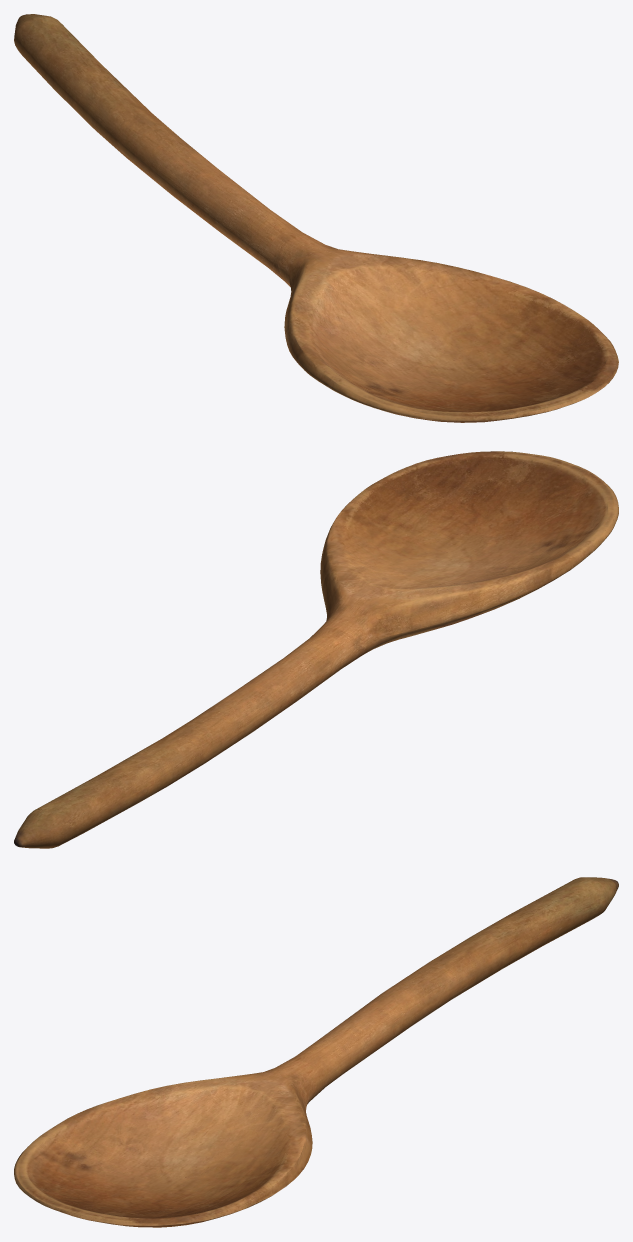
File: wooden_spoon.glb
3 views of the same model, one above another, from view 1: azimuth 30°, elevation 25°; view 2: azimuth 150°, elevation 25°; view 3: azimuth 330°, elevation 25° (orthographic). The views are drawn at different scales.
Visible parts, largest first — view 1: wooden_spoon; view 2: wooden_spoon; view 3: wooden_spoon.
Boxes of the visible parts, x1=… form: wooden_spoon: x1=14, y1=14, x2=618, y2=422; wooden_spoon: x1=14, y1=451, x2=618, y2=848; wooden_spoon: x1=14, y1=877, x2=618, y2=1227.
Size of the model in its own units: 0.2892 by 0.0664 by 1.09.
Materials: 1 (1 with a texture image).
